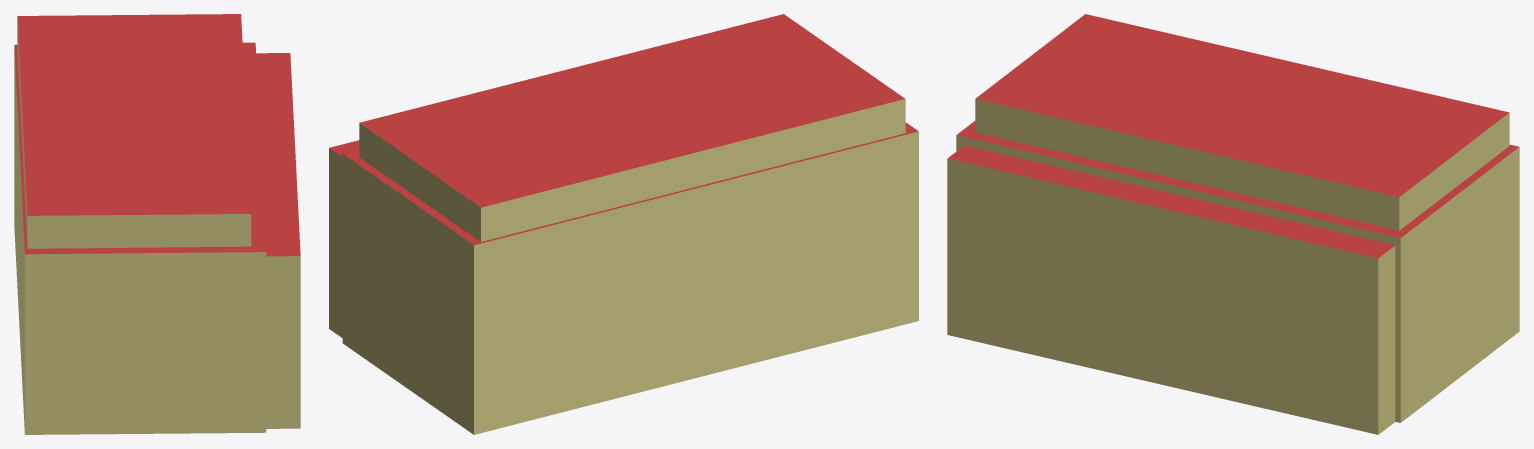
3 renders of one model, left to right at view 1: azimuth 30°, elevation 25°; view 2: azimuth 150°, elevation 25°; view 3: azimuth 270°, elevation 25°, orthographic. The views are drawn at different scales.
Visible parts, largest first — view 1: group_6, group_4, group_5, group_8, group_9, group_3; view 2: group_6, group_4, group_5, group_9, group_3; view 3: group_9, group_4, group_6, group_5, group_8, group_3.
Boxes of the visible parts, box(x1,y1,x2,y2) form: group_6: box(14, 49, 266, 434); group_4: box(17, 14, 251, 215); group_5: box(17, 17, 251, 248); group_8: box(256, 53, 300, 256); group_9: box(266, 256, 300, 428); group_3: box(14, 42, 266, 254); group_6: box(342, 131, 918, 434); group_4: box(359, 14, 904, 207); group_5: box(359, 99, 905, 241); group_9: box(329, 148, 342, 337); group_3: box(343, 122, 918, 245); group_9: box(947, 158, 1395, 434); group_4: box(975, 14, 1509, 196); group_6: box(956, 135, 1519, 422); group_5: box(975, 99, 1509, 230); group_8: box(948, 145, 1394, 258); group_3: box(957, 121, 1519, 237).
Bounding box in the file's own units: 29.35 × 34.36 × 14.47.
